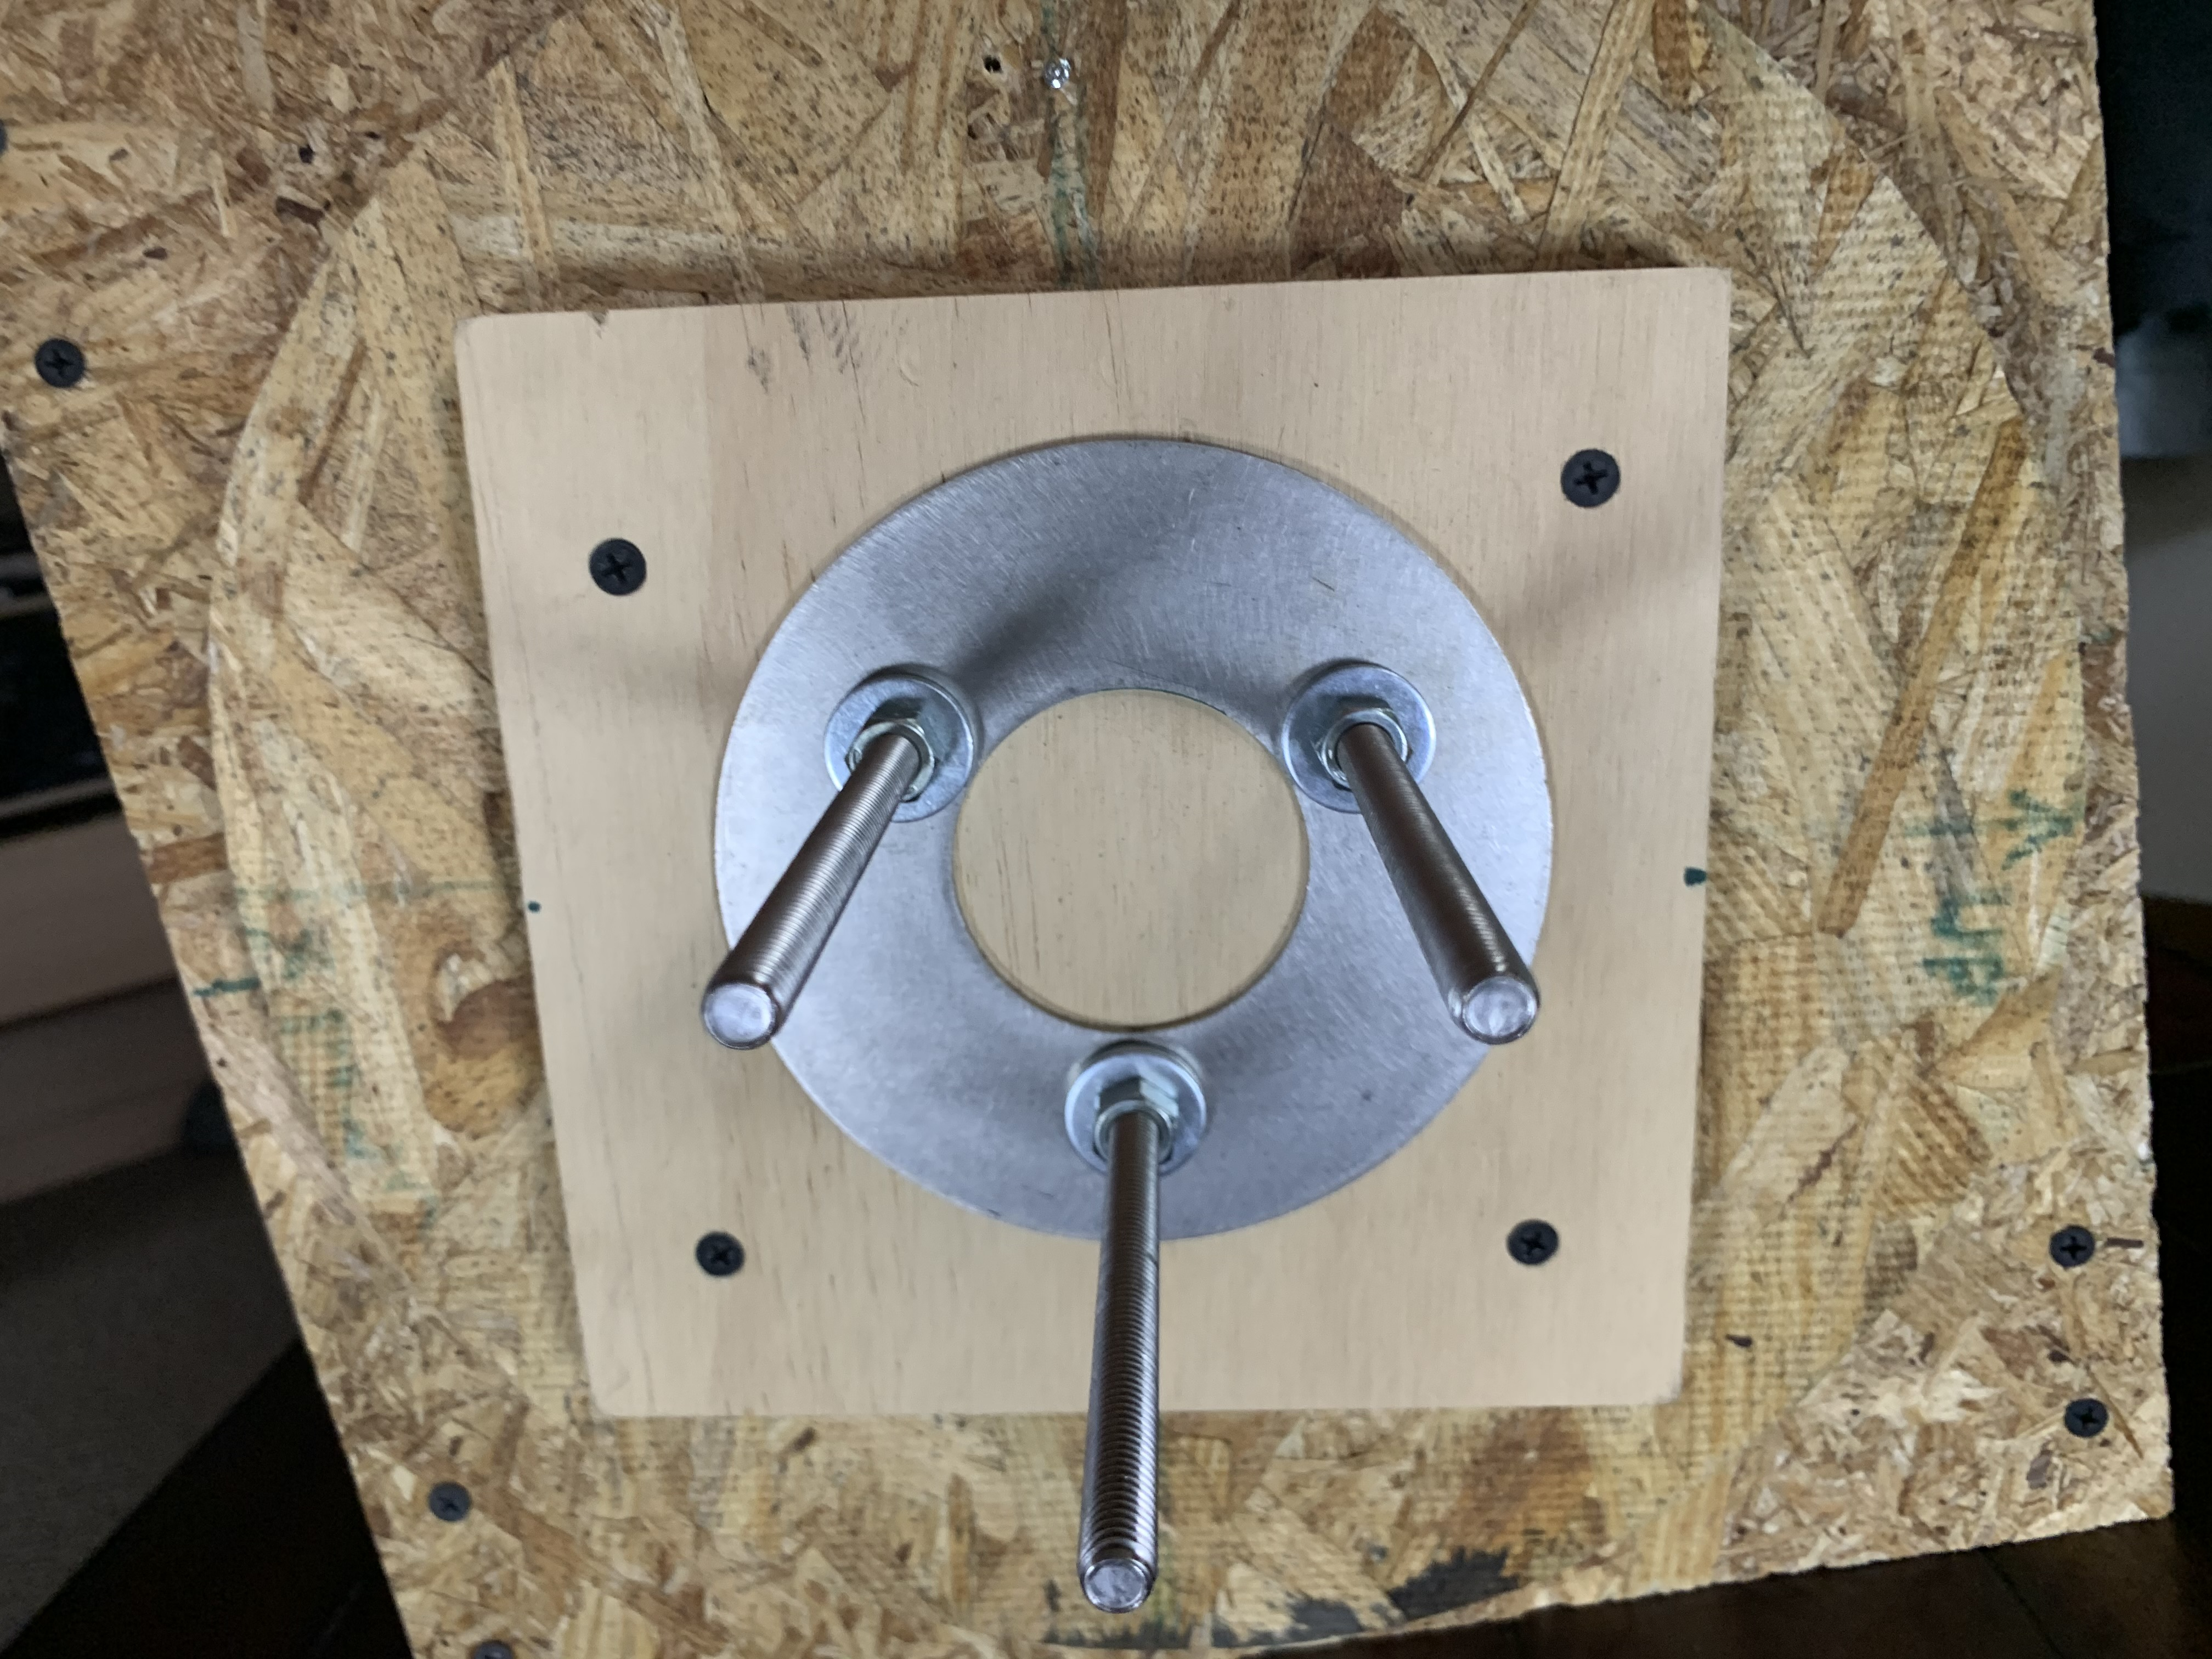bolt: (822, 666, 982, 824), (1275, 660, 1435, 817), (1059, 1037, 1212, 1175)
